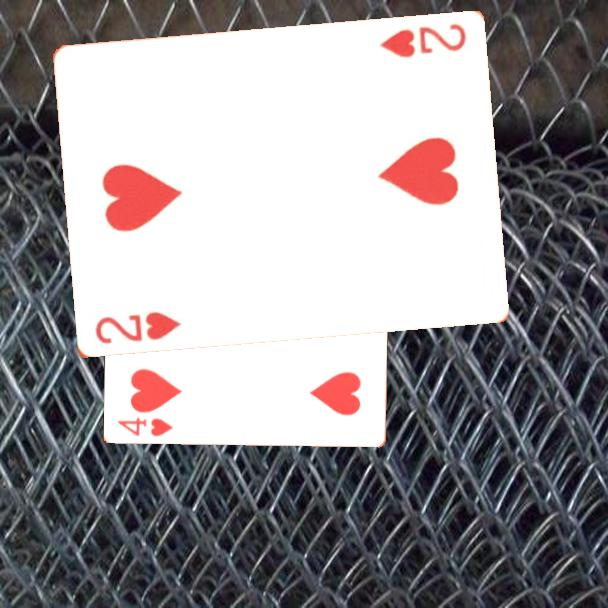h02: (91, 308, 184, 348), (376, 21, 469, 61)
h04: (114, 413, 176, 439)
